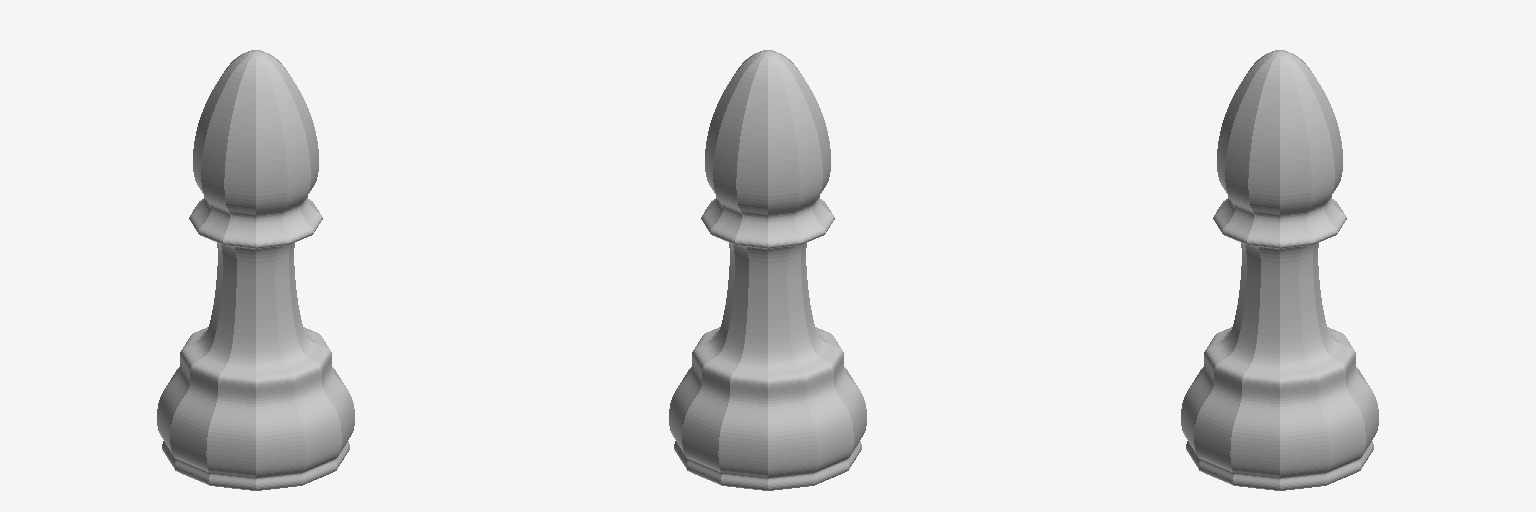
The model's file is Bishop.obj.
The picture shows the model from 3 angles: view 1: azimuth 30°, elevation 25°; view 2: azimuth 150°, elevation 25°; view 3: azimuth 270°, elevation 25°; orthographic projection.
Parts seen in each view (by area): view 1: Bishop_Mesh.003; view 2: Bishop_Mesh.003; view 3: Bishop_Mesh.003.
Part boxes in pixels (x1,y1,x2,y2): Bishop_Mesh.003: (157,50,354,490); Bishop_Mesh.003: (669,50,866,490); Bishop_Mesh.003: (1181,50,1378,490).
Bounding box in the file's own units: 1.24 × 2.83 × 1.24.